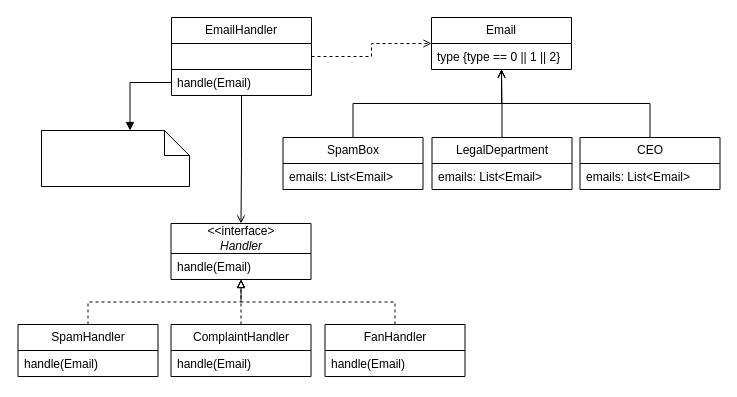
The diagram is 737 pixels wide and 397 high, and some of its shapes have lost their labels. Here are the shapes that lost their labels. From the top down, the centre of each, then its label:
At point 241,56: "handler: Handler".
At point 115,158: "handler.handle(Email)".
